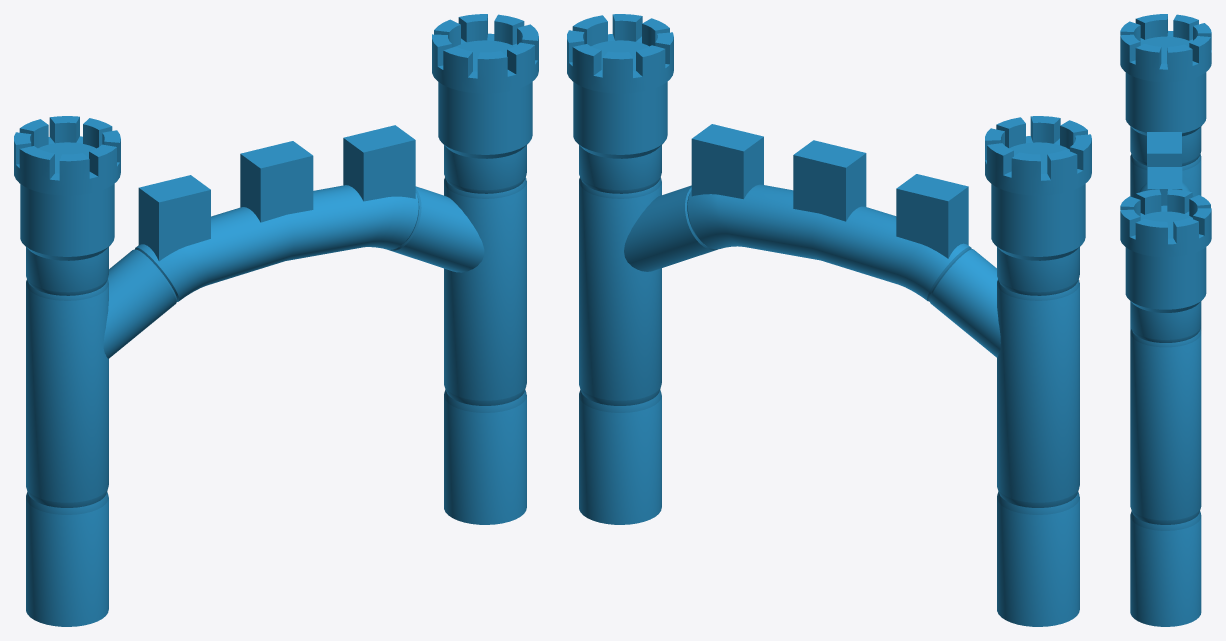
Rendered from Tower1_blue.fbx.
3 views of the same model, side by side, from view 1: azimuth 30°, elevation 25°; view 2: azimuth 150°, elevation 25°; view 3: azimuth 270°, elevation 25° (orthographic). The views are drawn at different scales.
Parts seen in each view (by area): view 1: Cylinder.023; view 2: Cylinder.023; view 3: Cylinder.023.
Part boxes in pixels (bbox=[...]): Cylinder.023: bbox=[14, 14, 538, 626]; Cylinder.023: bbox=[567, 14, 1091, 626]; Cylinder.023: bbox=[1120, 14, 1211, 626].
Bounding box in the file's own units: 10.41 × 1.89 × 9.17.
